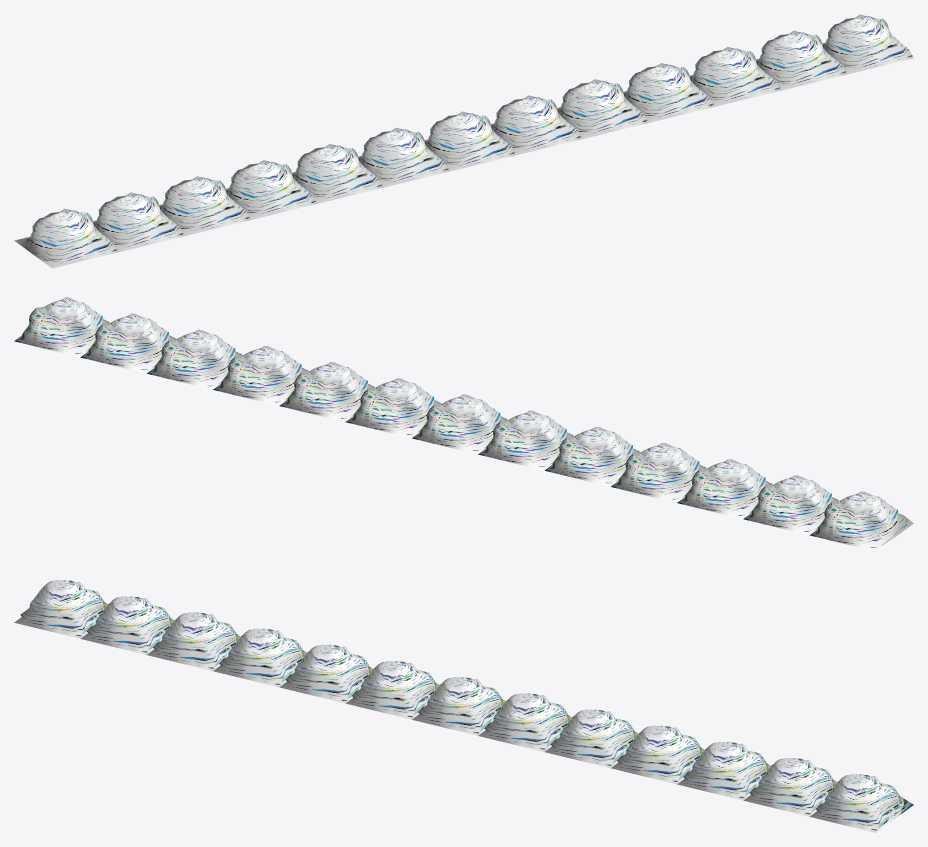
Rendered from Terrain_Map_2.obj.
3 renders of one model, top to bottom at view 1: azimuth 30°, elevation 25°; view 2: azimuth 150°, elevation 25°; view 3: azimuth 330°, elevation 25°, orthographic.
Visible parts, largest first — view 1: Terrain_Map_6:pSphere2; view 2: Terrain_Map_6:pSphere2; view 3: Terrain_Map_6:pSphere2.
Part boxes in pixels (x1,y1,x2,y2): Terrain_Map_6:pSphere2: [14, 14, 913, 268]; Terrain_Map_6:pSphere2: [14, 297, 913, 551]; Terrain_Map_6:pSphere2: [14, 580, 913, 832].
Bounding box in the file's own units: 26 × 0.9877 × 2.
Materials: 13 (13 with a texture image).
